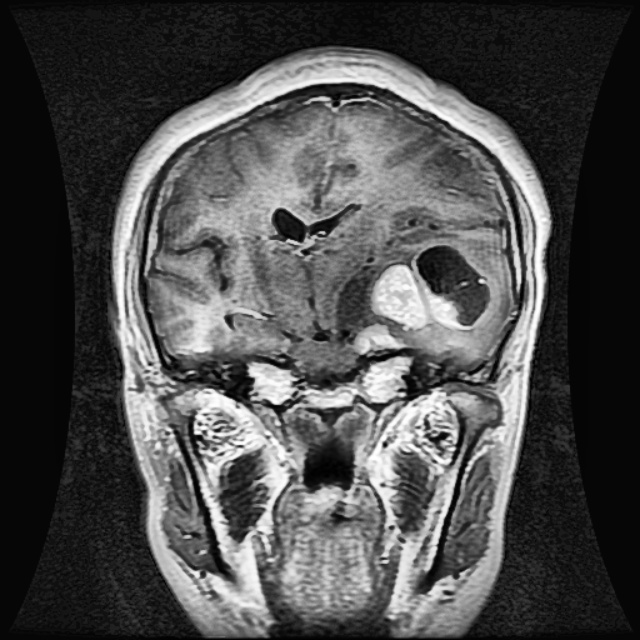Glioma: (374, 247, 490, 328)
